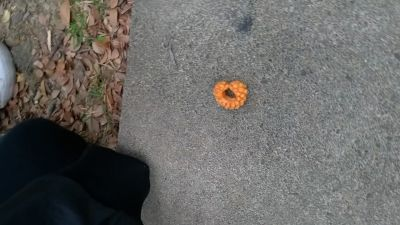eggs: (212, 82, 251, 109)
